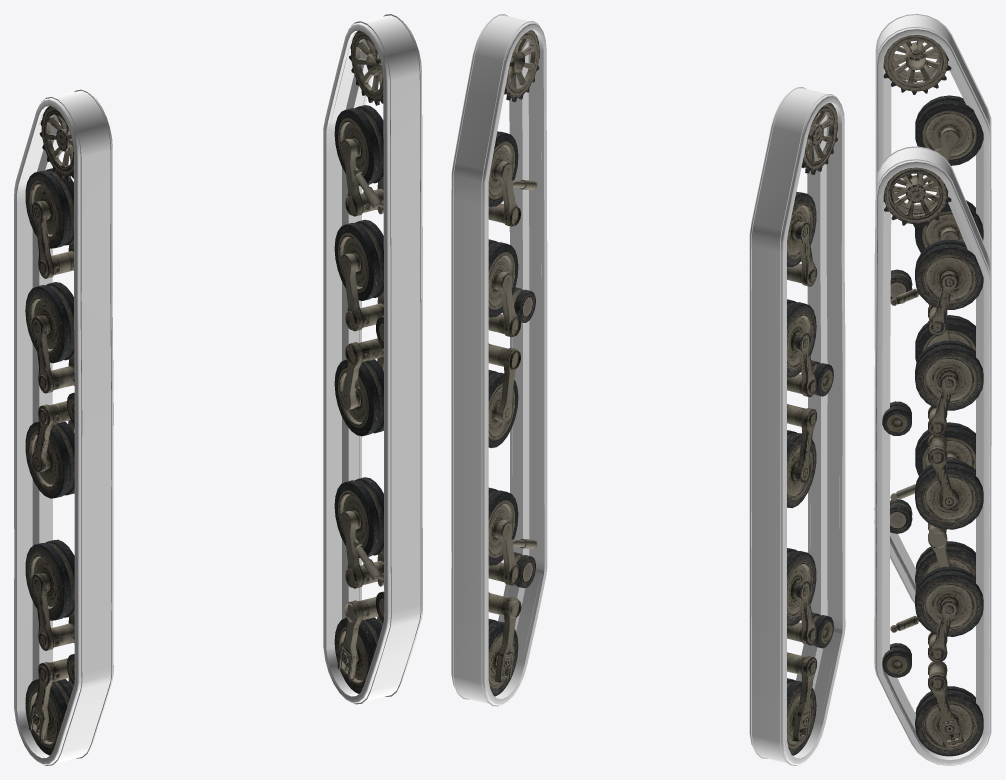
Rendered from Chassis.glb.
3 views of the same model, side by side, from view 1: azimuth 30°, elevation 25°; view 2: azimuth 150°, elevation 25°; view 3: azimuth 270°, elevation 25° (orthographic). The views are drawn at different scales.
Parts seen in each view (by area): view 1: set_0_group_0, set_1_group_0, set_3_group_0, set_2_group_0; view 2: set_0_group_0, set_1_group_0, set_3_group_0, set_2_group_0; view 3: set_3_group_0, set_0_group_0, set_2_group_0, set_1_group_0.
Part boxes in pixels (box(x1,y1,x2,y2)): set_0_group_0: box(323, 14, 422, 704); set_1_group_0: box(14, 89, 113, 765); set_3_group_0: box(334, 30, 384, 693); set_2_group_0: box(25, 106, 74, 755); set_0_group_0: box(451, 14, 547, 706); set_1_group_0: box(749, 87, 845, 765); set_3_group_0: box(488, 30, 539, 696); set_2_group_0: box(787, 103, 837, 755); set_3_group_0: box(882, 167, 983, 756); set_0_group_0: box(874, 146, 991, 765); set_2_group_0: box(883, 35, 983, 588); set_1_group_0: box(874, 14, 991, 603).
Bounding box in the file's own units: 2.45 × 4.67 × 0.8165.
Materials: 4 (2 with a texture image).
